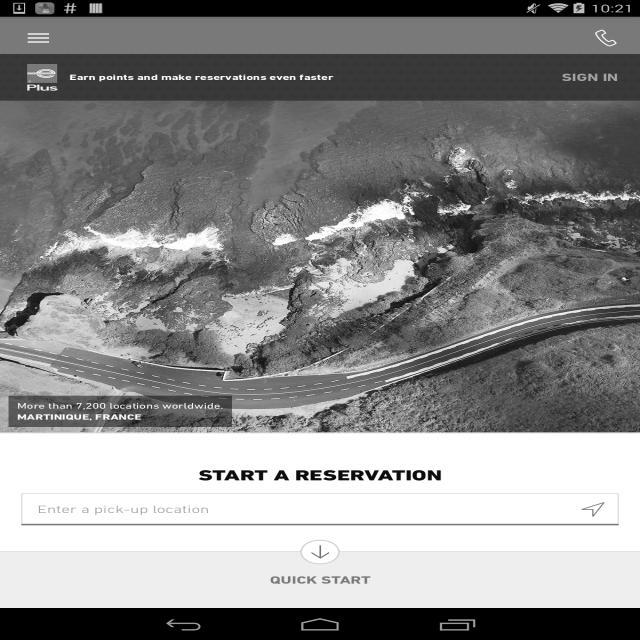EditText: (21, 494, 619, 526)
ImageButton: (9, 19, 68, 57)
ImageView: (0, 101, 640, 432), (568, 494, 618, 526), (21, 64, 64, 91), (300, 540, 340, 564)
TextView: (0, 552, 640, 608), (64, 58, 562, 98), (21, 467, 619, 484), (17, 401, 224, 411), (580, 22, 632, 54), (17, 412, 142, 422), (562, 71, 618, 84)
